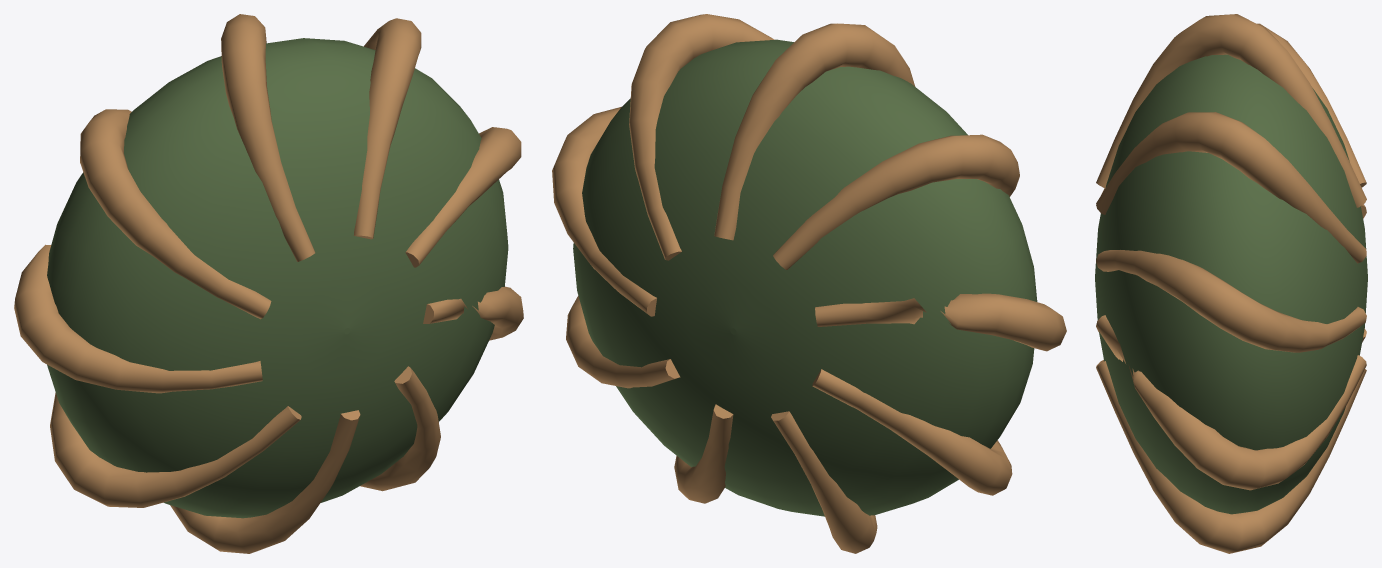
File: boss_organ_body.glb
The picture shows the model from 3 angles, left to right: view 1: azimuth 30°, elevation 25°; view 2: azimuth 150°, elevation 25°; view 3: azimuth 270°, elevation 25°; orthographic projection. The views are drawn at different scales.
Parts seen in each view (by area): view 1: boss_organ_body; view 2: boss_organ_body; view 3: boss_organ_body.
Boxes of the visible parts, <box> form: boss_organ_body: <box>14,14,523,553</box>; boss_organ_body: <box>552,14,1066,553</box>; boss_organ_body: <box>1095,14,1367,553</box>.
Size of the model in its own units: 2.14 by 2.15 by 1.08.
